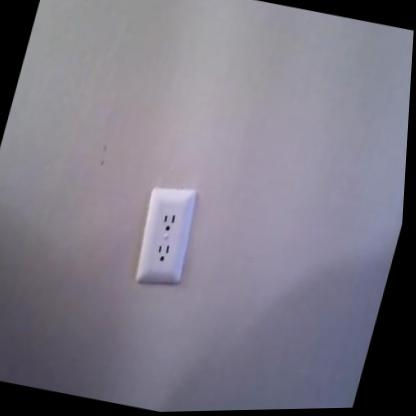OUTLET: (128, 182, 202, 290)
